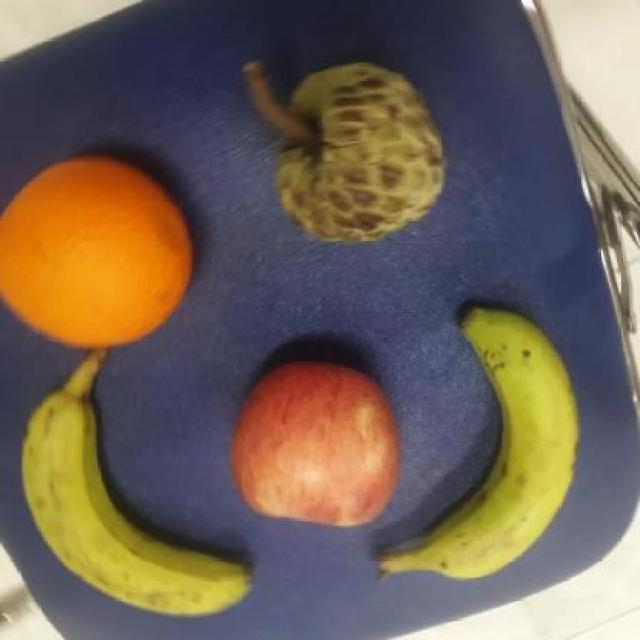apple: (226, 350, 406, 538)
banana: (18, 367, 245, 621), (401, 301, 590, 594)
oren: (0, 150, 195, 352)
sugar apple: (248, 53, 454, 249)
